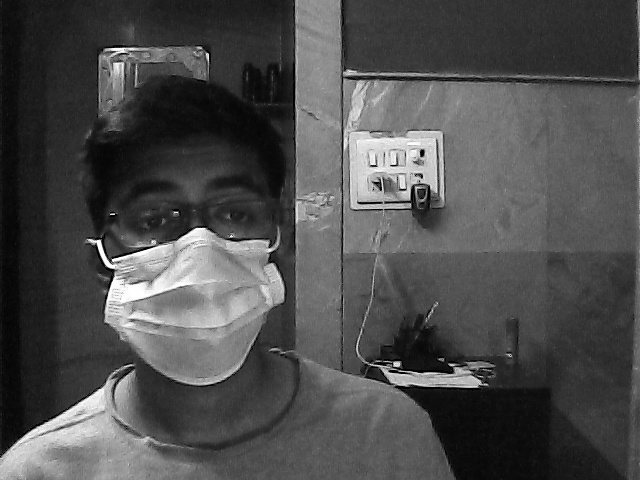mask: (99, 140, 298, 388)
